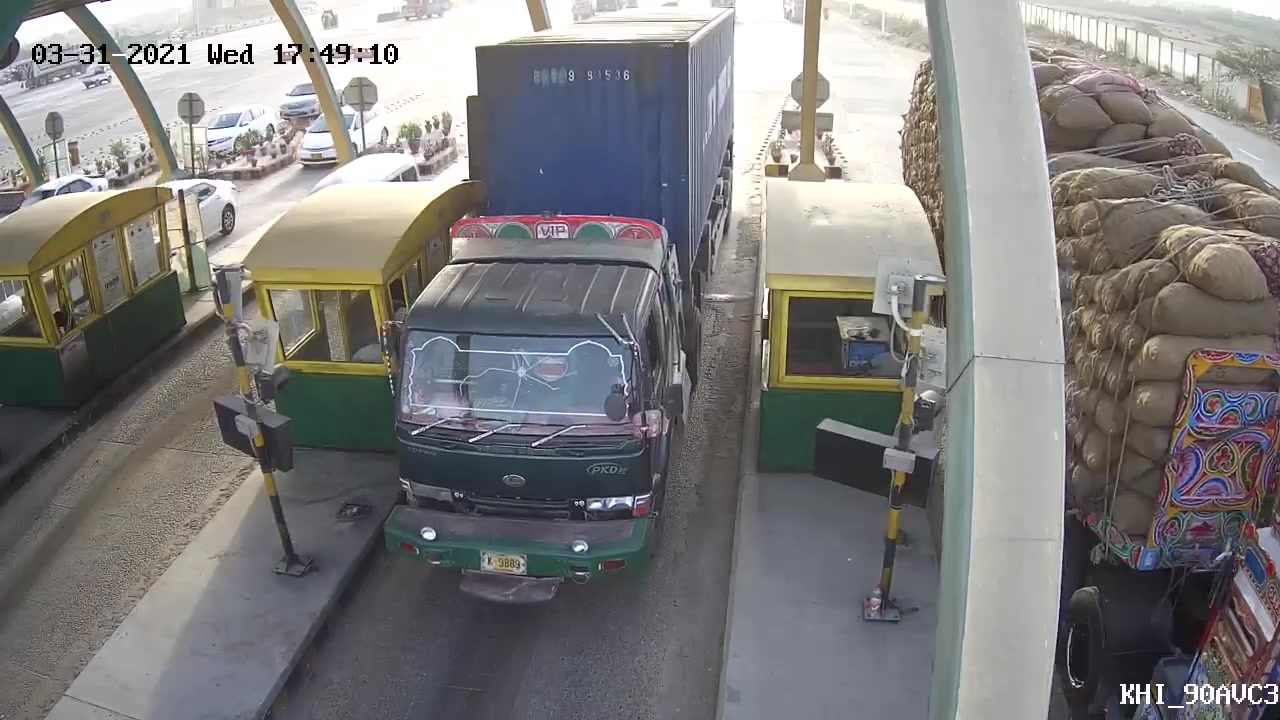F5: (383, 33, 709, 633)
